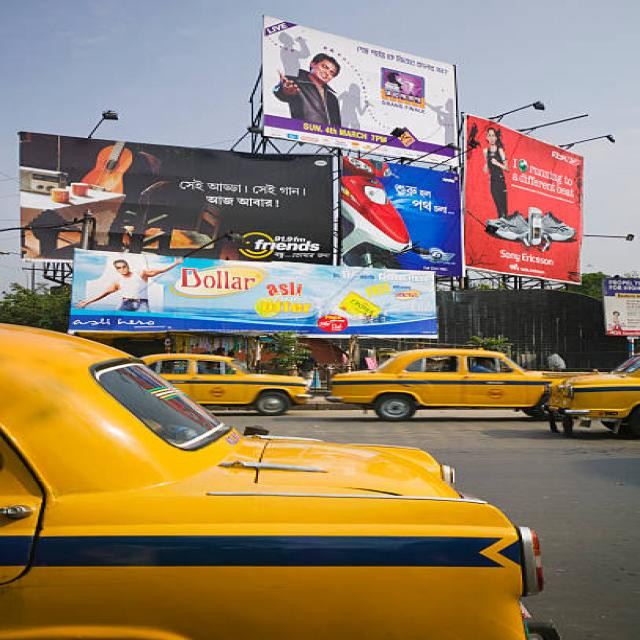Werbetafel frei: (12, 152, 333, 262), (73, 253, 439, 329), (260, 24, 458, 164), (465, 116, 581, 275), (340, 156, 462, 268), (605, 277, 640, 335)
